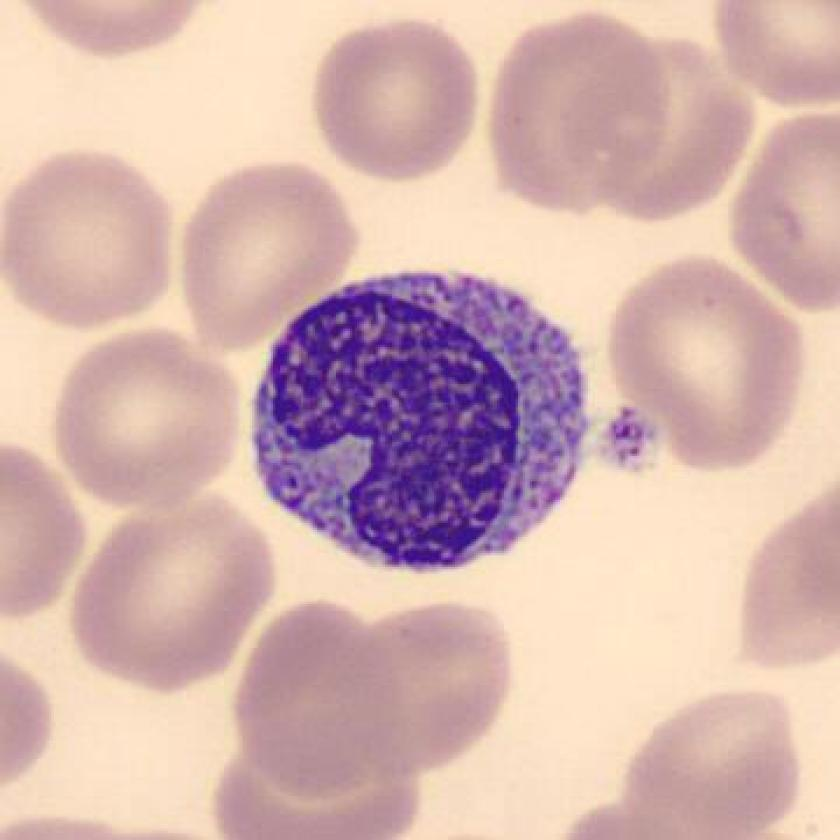monocyte: (232, 247, 608, 594)
